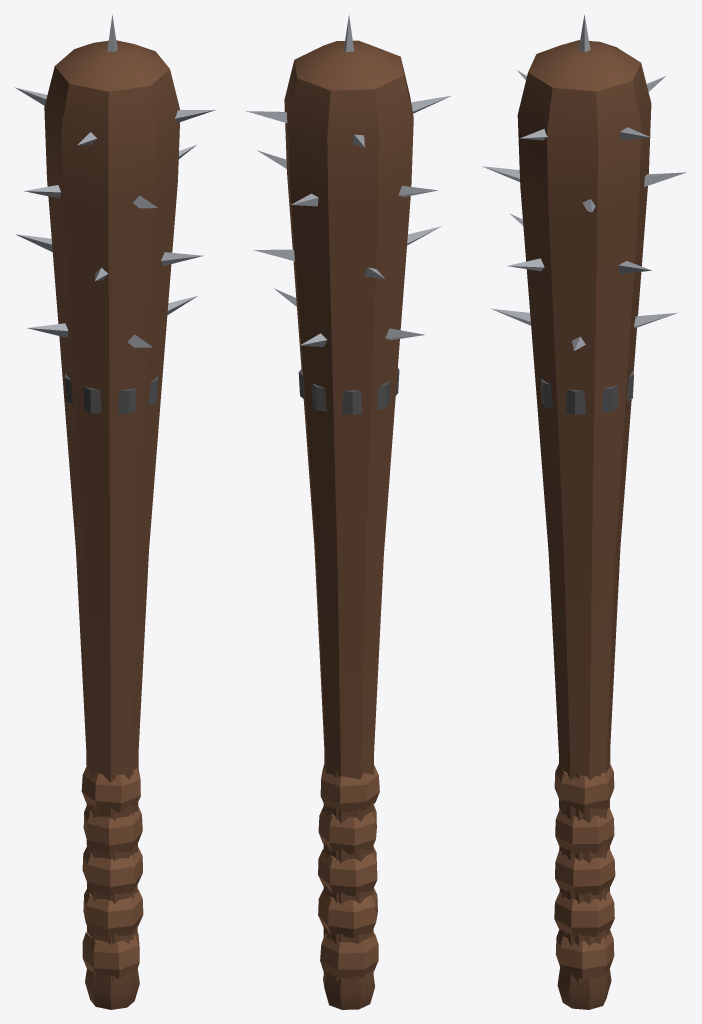
File: spiked_club.glb
3 views of the same model, side by side, from view 1: azimuth 30°, elevation 25°; view 2: azimuth 150°, elevation 25°; view 3: azimuth 270°, elevation 25° (orthographic).
Parts seen in each view (by area): view 1: spiked_club; view 2: spiked_club; view 3: spiked_club.
Boxes of the visible parts, box(x1,y1,x2,y2) form: spiked_club: box(15, 14, 216, 1009); spiked_club: box(246, 14, 451, 1009); spiked_club: box(482, 14, 686, 1009).
Bounding box in the file's own units: 0.1574 × 0.83 × 0.1572.
